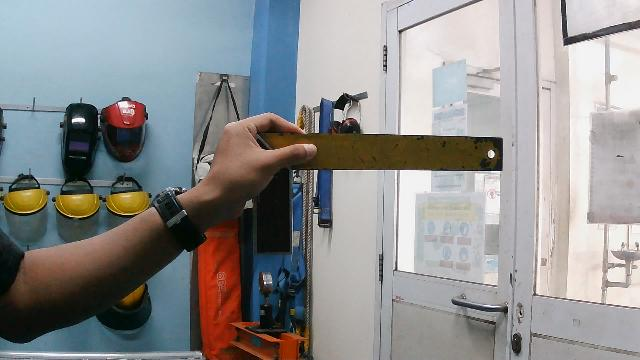penggaris_siku: (246, 124, 506, 260)
